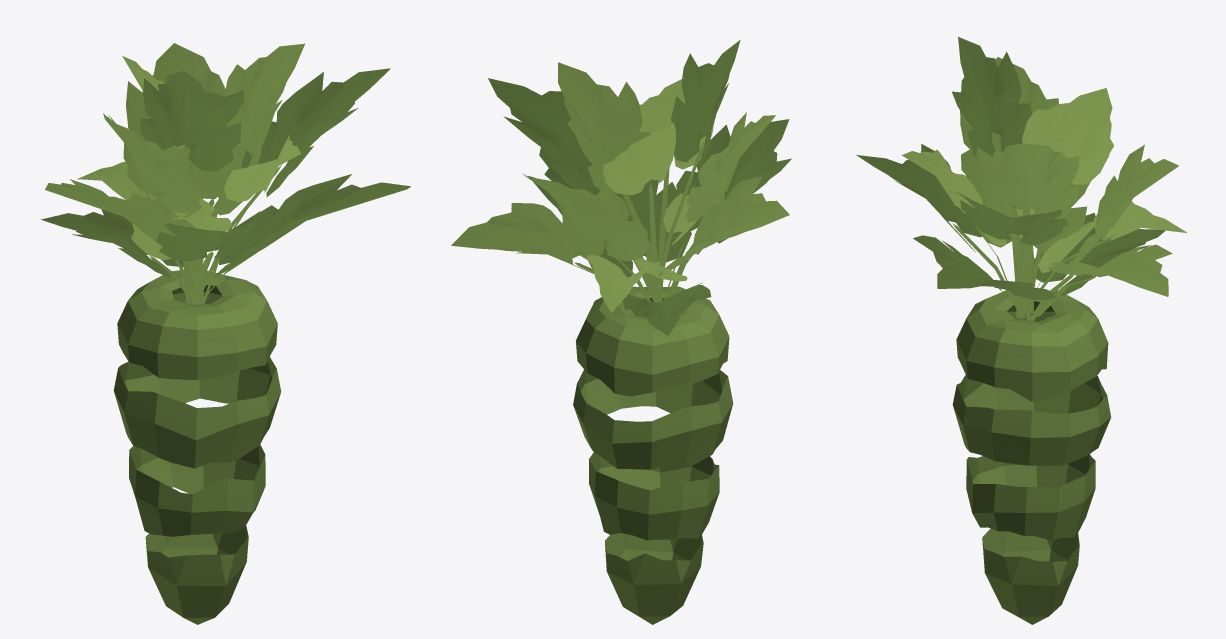
File: SM_Prop_Food_Carrot_Giant_01.fbx
3 views of the same model, side by side, from view 1: azimuth 30°, elevation 25°; view 2: azimuth 150°, elevation 25°; view 3: azimuth 270°, elevation 25° (orthographic). The views are drawn at different scales.
Visible parts, largest first — view 1: SM_Prop_Food_Carrot_Giant_01_LOD0; view 2: SM_Prop_Food_Carrot_Giant_01_LOD0; view 3: SM_Prop_Food_Carrot_Giant_01_LOD0.
Boxes of the visible parts, x1,y1,x2,y2 form: SM_Prop_Food_Carrot_Giant_01_LOD0: (41, 43, 410, 624); SM_Prop_Food_Carrot_Giant_01_LOD0: (451, 40, 791, 624); SM_Prop_Food_Carrot_Giant_01_LOD0: (856, 37, 1186, 624).
Size of what is drawn, in the model's own units: 167 by 278 by 158.
